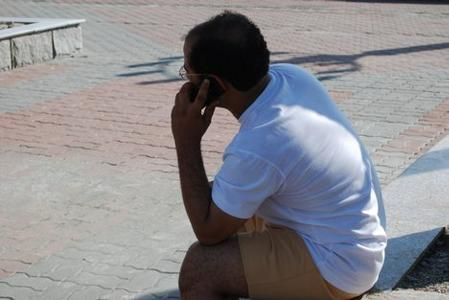person: (171, 12, 388, 300)
